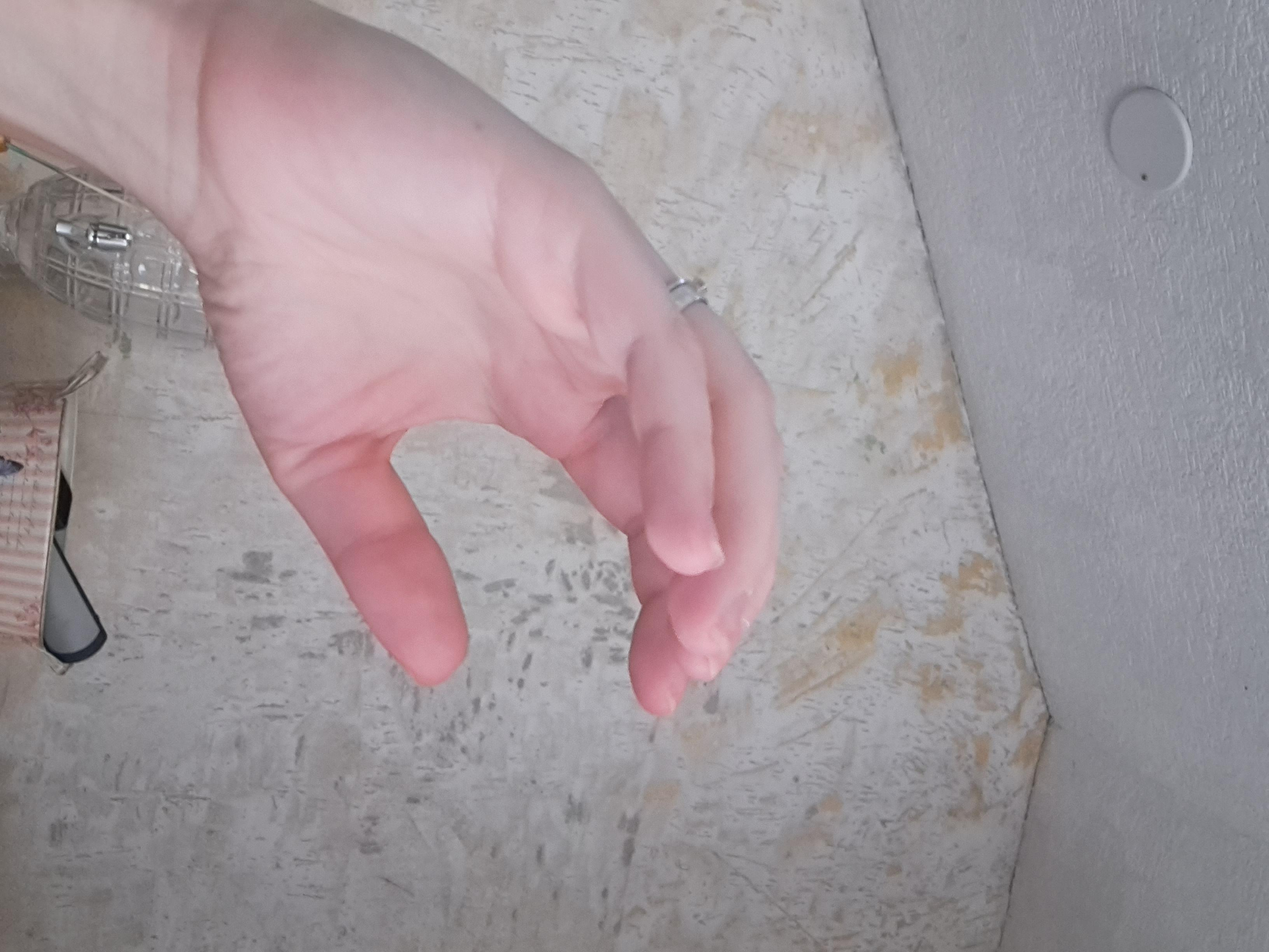C: (36, 347, 1000, 802)
